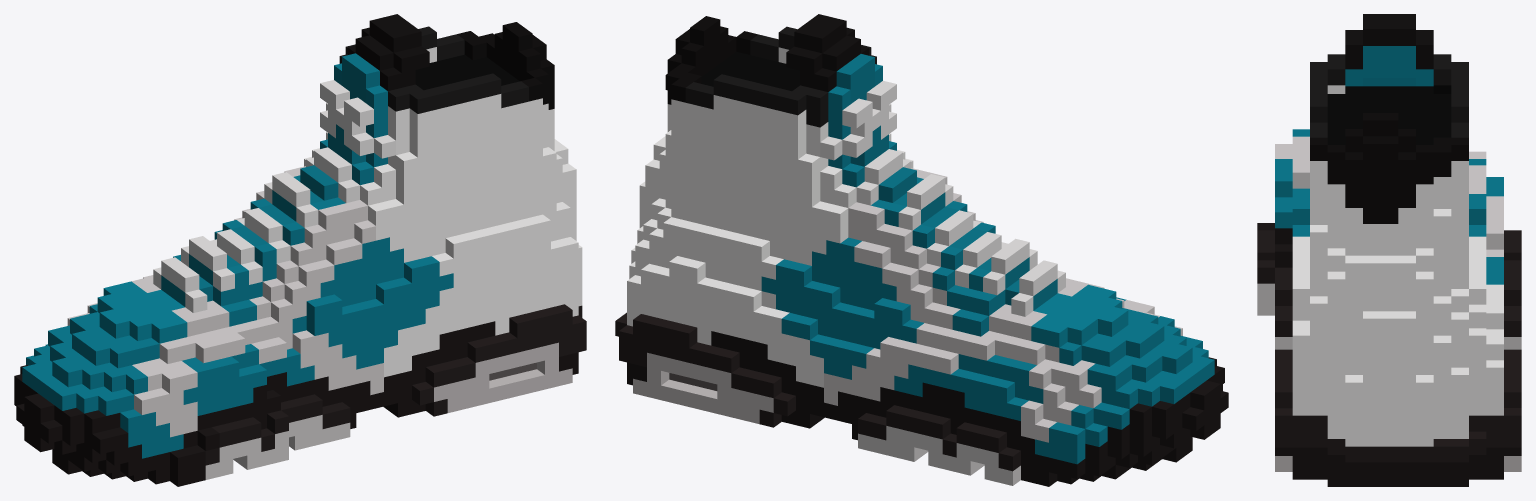
File: Aquarium.fbx
3 renders of one model, left to right at view 1: azimuth 30°, elevation 25°; view 2: azimuth 150°, elevation 25°; view 3: azimuth 270°, elevation 25°, orthographic. The views are drawn at different scales.
Visible parts, largest first — view 1: Untitled; view 2: Untitled; view 3: Untitled.
Boxes of the visible parts, <box> form: Untitled: <box>14,14,586,486</box>; Untitled: <box>615,14,1228,486</box>; Untitled: <box>1257,14,1521,486</box>.
Size of the model in its own units: 390 by 240 by 150.
